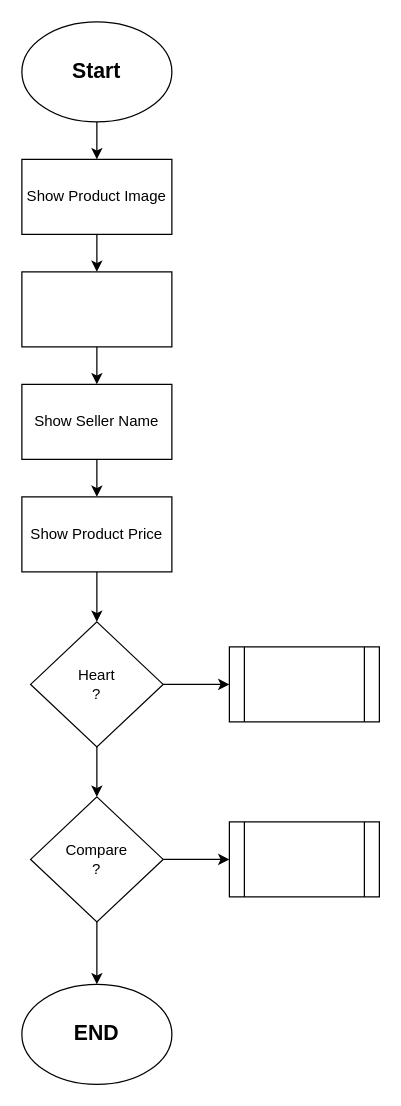
This 401x1106 diagram has some shape labels left out. The box of each missing label's shape, as (x1, y1, x2, y2) in pixels:
Compare: (228, 821, 379, 897)
Heart: (228, 646, 379, 722)
Show Product Name: (21, 271, 172, 347)
